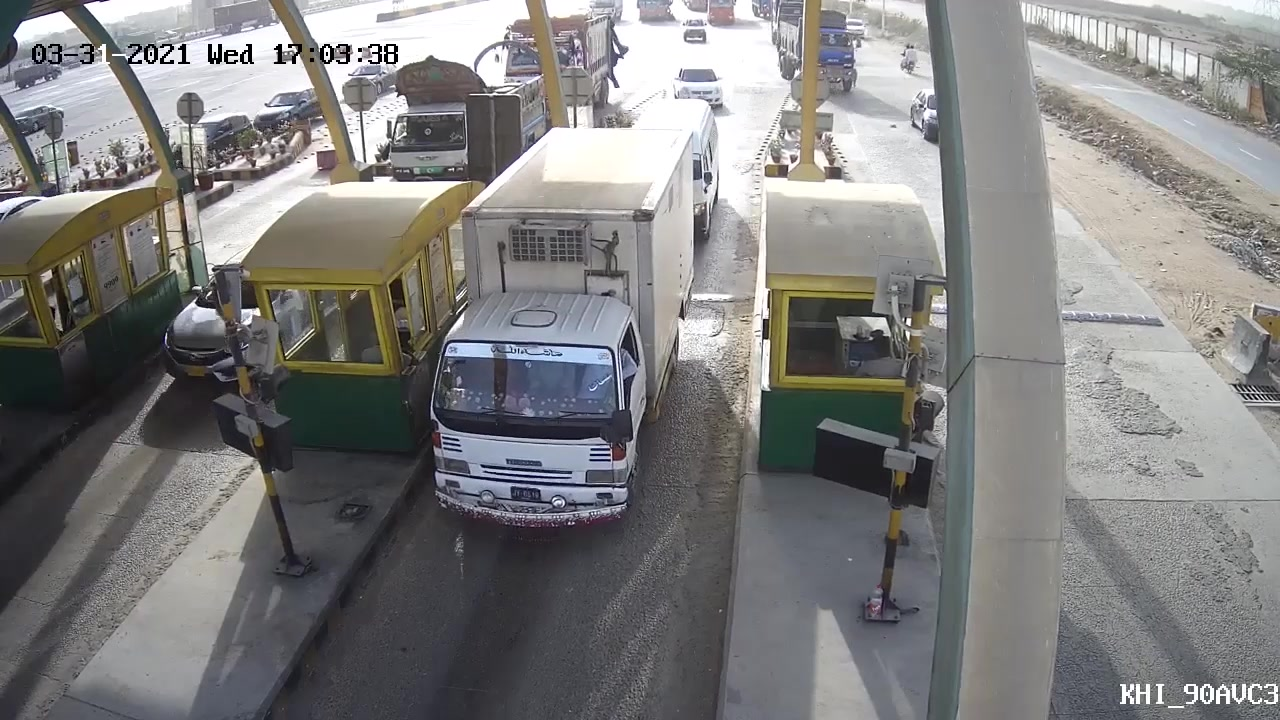F5: (409, 128, 708, 535)
